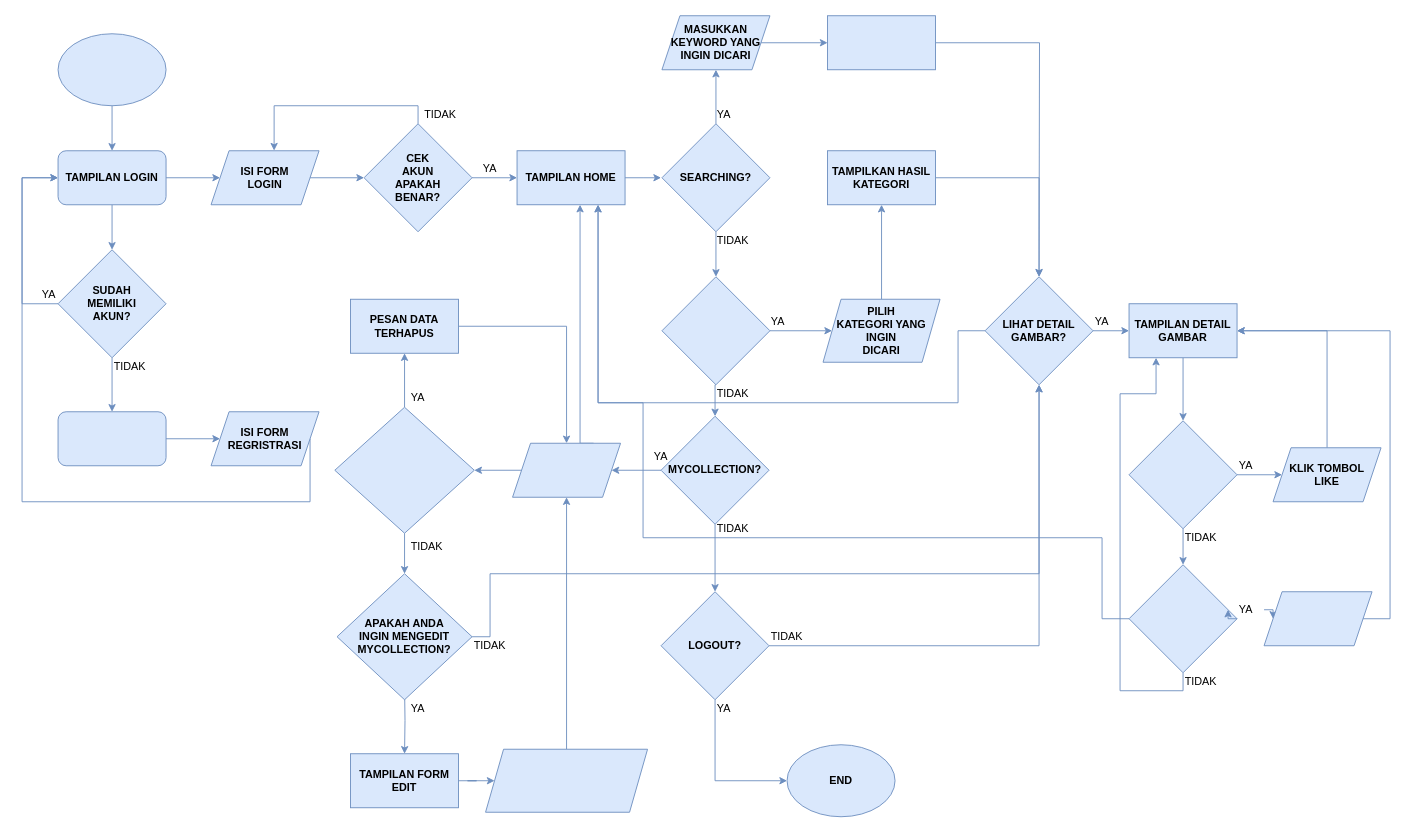
Image size: 1413x833. Some labels were removed from this diagram. Here are the shapes that lost their labels. From the top down, the box of each, then its label:
(827, 15, 936, 70): TAMPILKAN HASIL PENCARIAN
(57, 33, 166, 106): START
(661, 276, 770, 385): SORTING?
(57, 411, 166, 466): TAMPILAN REGRISTRASI
(334, 406, 474, 533): APAKAH ANDA INGIN MENGHAPUS MYCOLLECTION?
(512, 442, 621, 497): TAMPILKAN MYCOLLECTION
(1128, 420, 1237, 529): APAKAH ANDA INGIN LIKE?
(1128, 564, 1237, 673): APAKAH ANDA INGIN COMMENT?
(1263, 591, 1372, 646): ISI KOMENTAR
(485, 748, 648, 812): MASUKKAN DATA YANG INGIN DI EDIT
